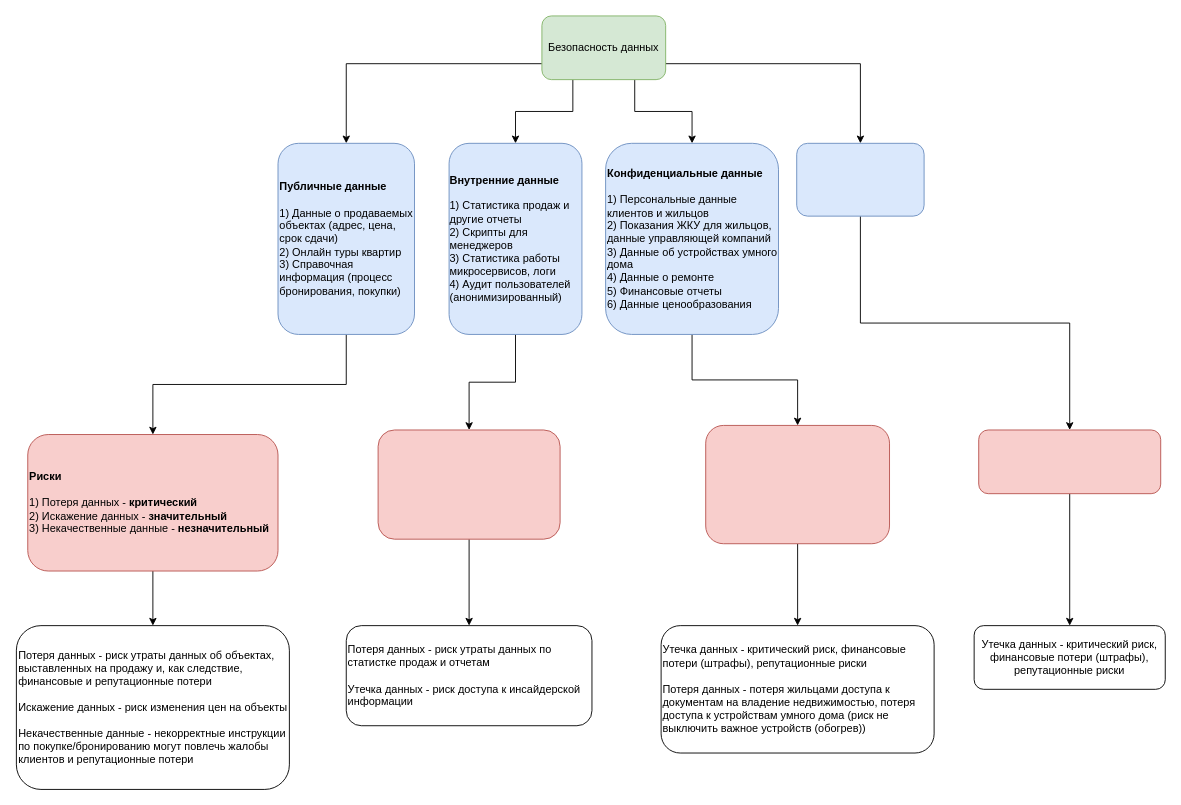
This 1181x805 diagram has some shape labels left out. The shapes that lost their labels are listed below. From the top down, each one's centre as x and y in pixels, then its label:
pixel 860 179: Секретные данные 1) Платежные данные клиентов и жильцов
pixel 1069 461: Риски 1) Утечка данных - критический
pixel 468 484: Риски 1) Потеря данных - значительный 2) Утечка данных - значительный
pixel 797 484: Риски 1) Утечка данных - критический 2) Потеря данных - значительный
